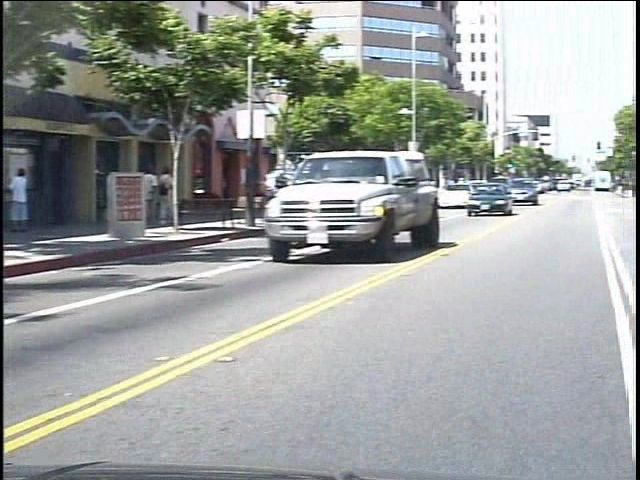person: (17, 159, 46, 233), (167, 165, 189, 229), (152, 164, 173, 228)
